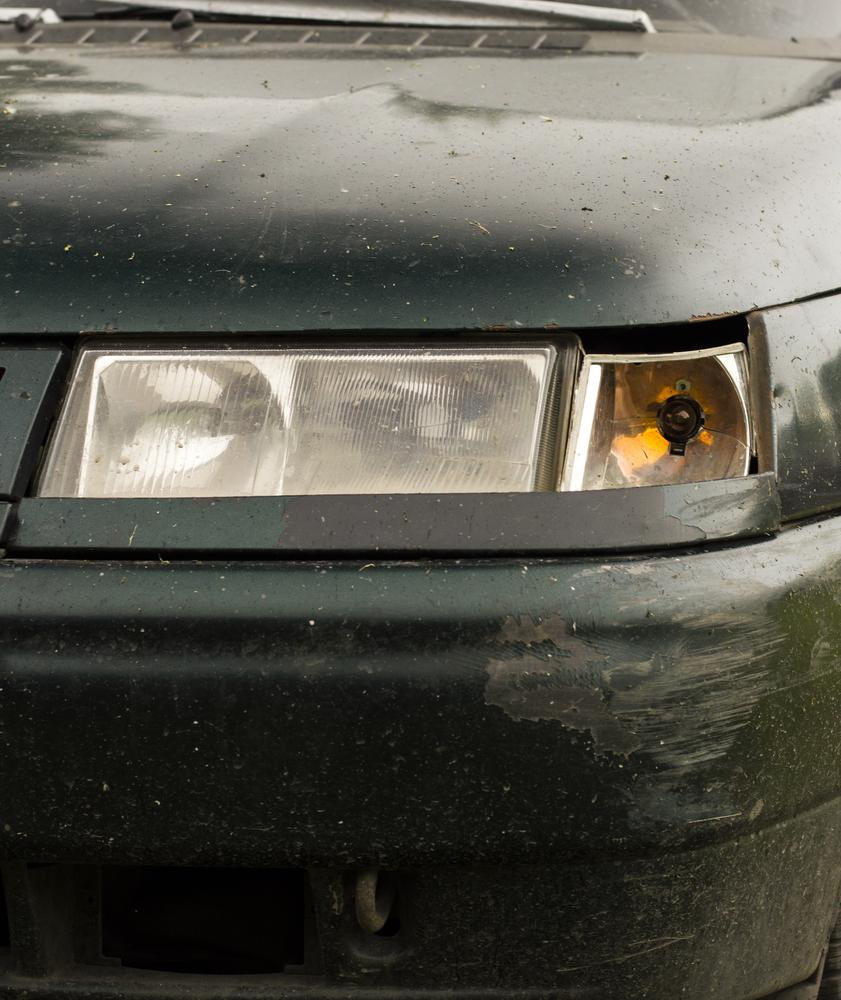lamp broken: (558, 314, 762, 495)
scratch: (489, 557, 783, 954)
